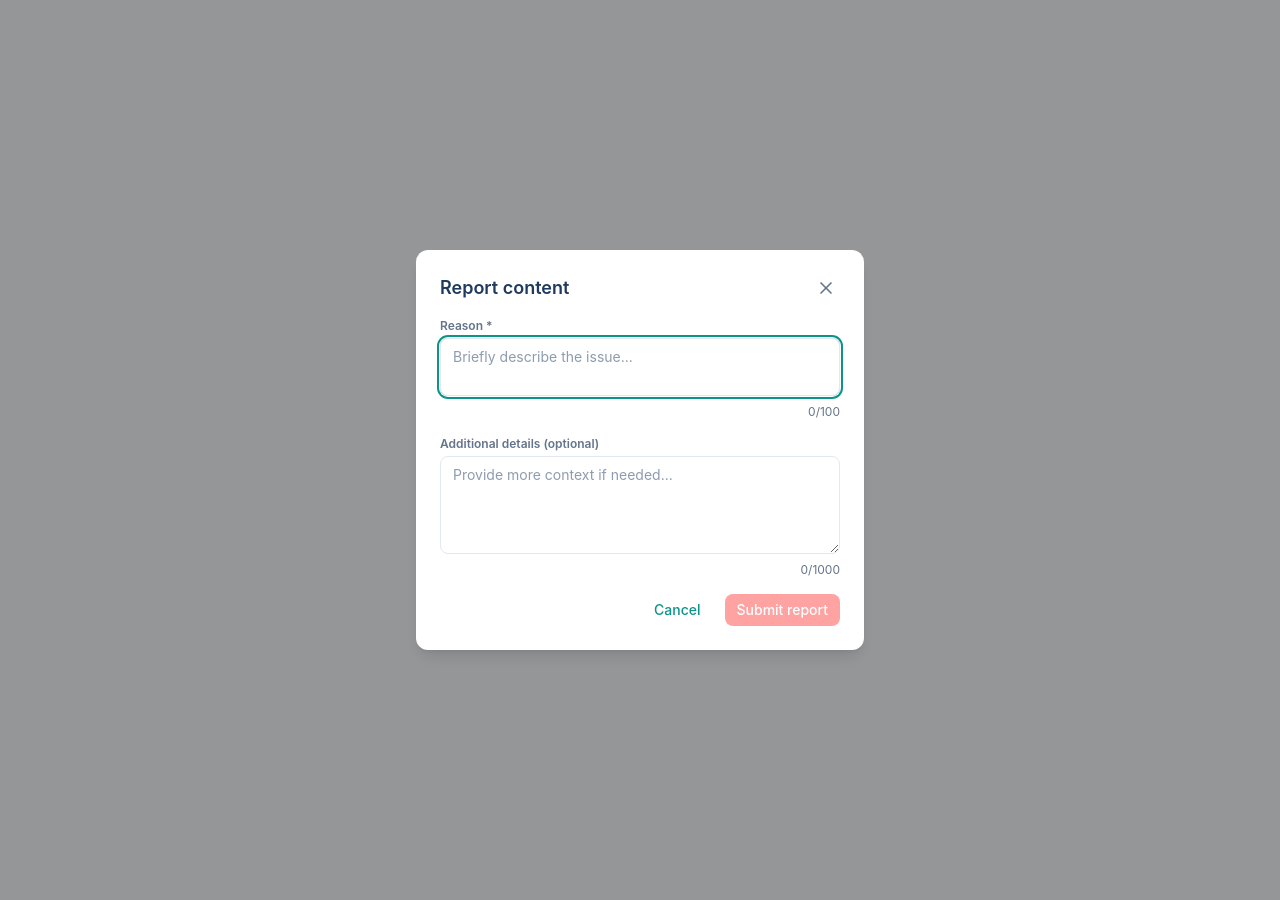
Test case: ReportDialog submission › shows conflict message on 409
Type "Spam" into the text box labelled "Reason *".
click(640, 367); type("Spam")  # box [440,338,840,396]
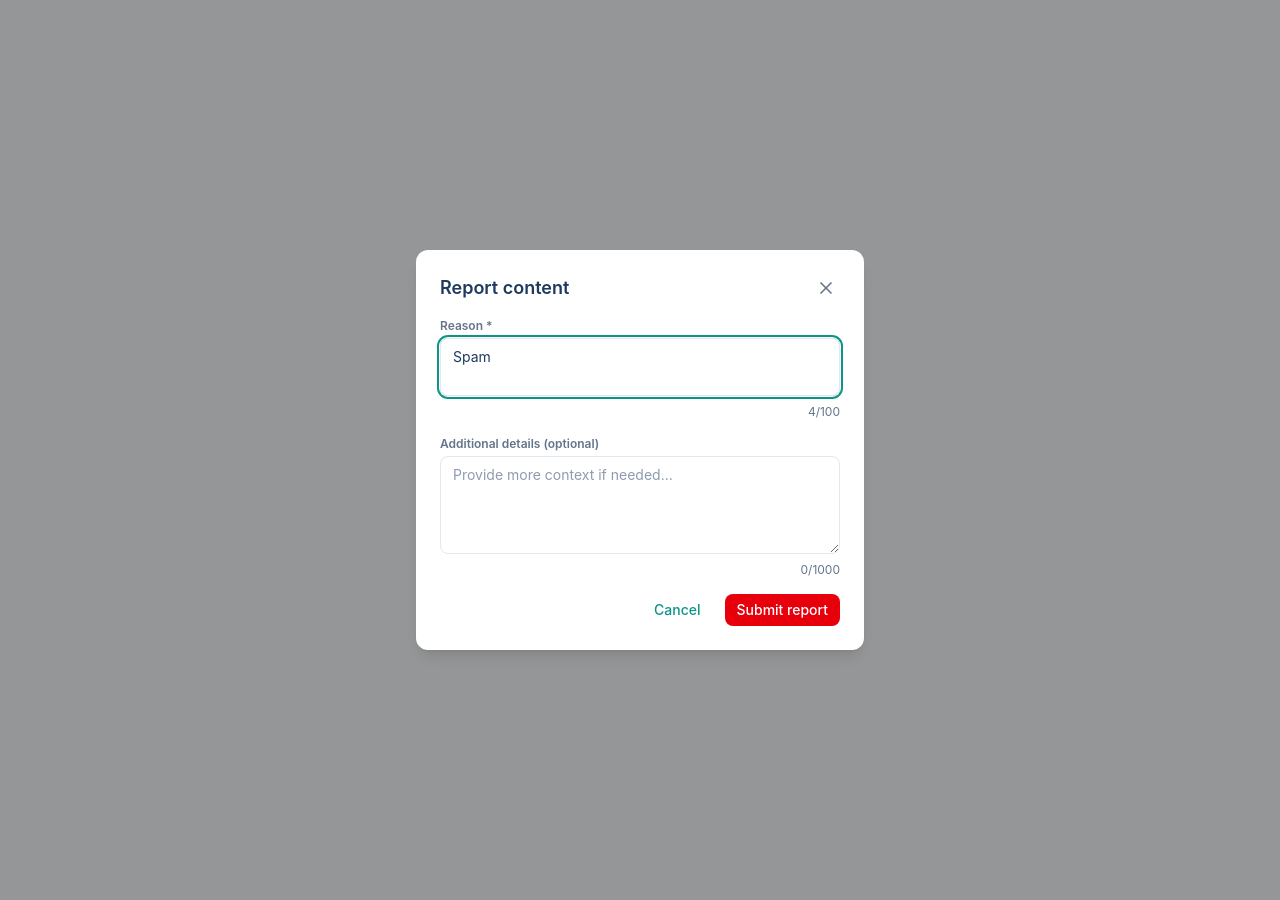
Click the button "Submit report".
click(782, 610)  # box [724,594,840,626]
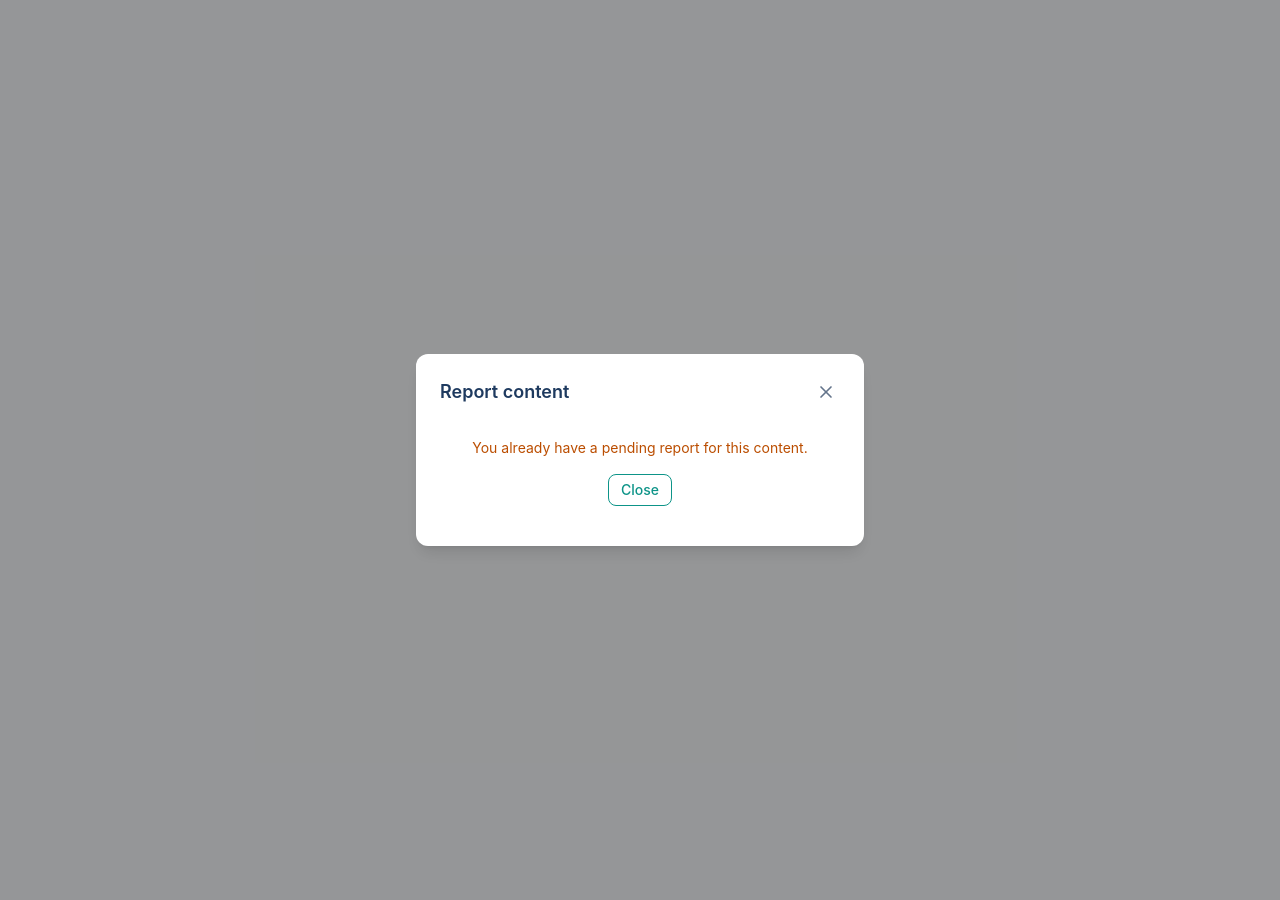
Check: the text "You already have a pending report for this content." is shown, box [472,438,808,458]
